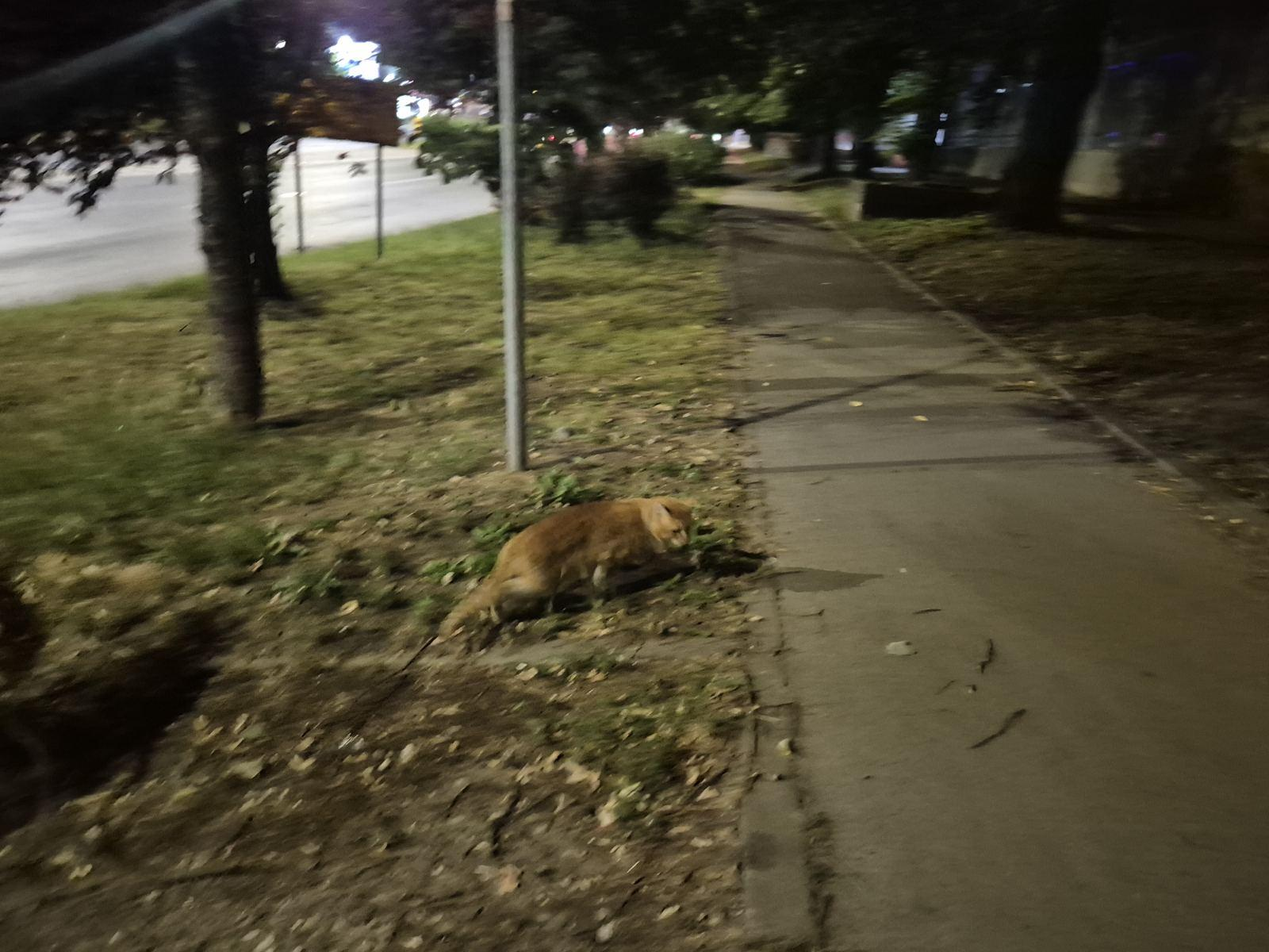macka: (441, 493, 695, 636)
